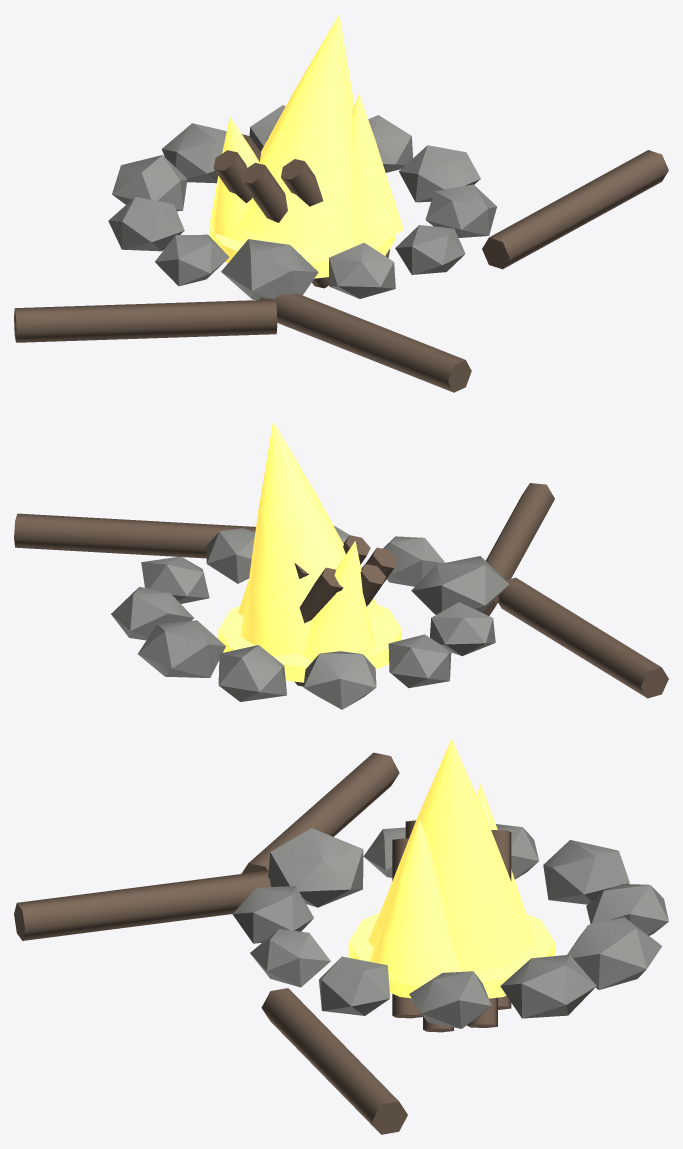
Rendered from fps-survival-forest-outpost-campfire-9a18b153__32698.glb.
The picture shows the model from 3 angles, top to bottom: view 1: azimuth 30°, elevation 25°; view 2: azimuth 150°, elevation 25°; view 3: azimuth 270°, elevation 25°; orthographic projection. The views are drawn at different scales.
Parts seen in each view (by area): view 1: campfire; view 2: campfire; view 3: campfire.
Boxes of the visible parts, x1,y1,x2,y2 form: campfire: (14,15,668,392); campfire: (14,421,668,709); campfire: (14,738,668,1134).
Size of the model in its own units: 2.61 by 0.9648 by 2.03.
3 materials, 1 textured.
